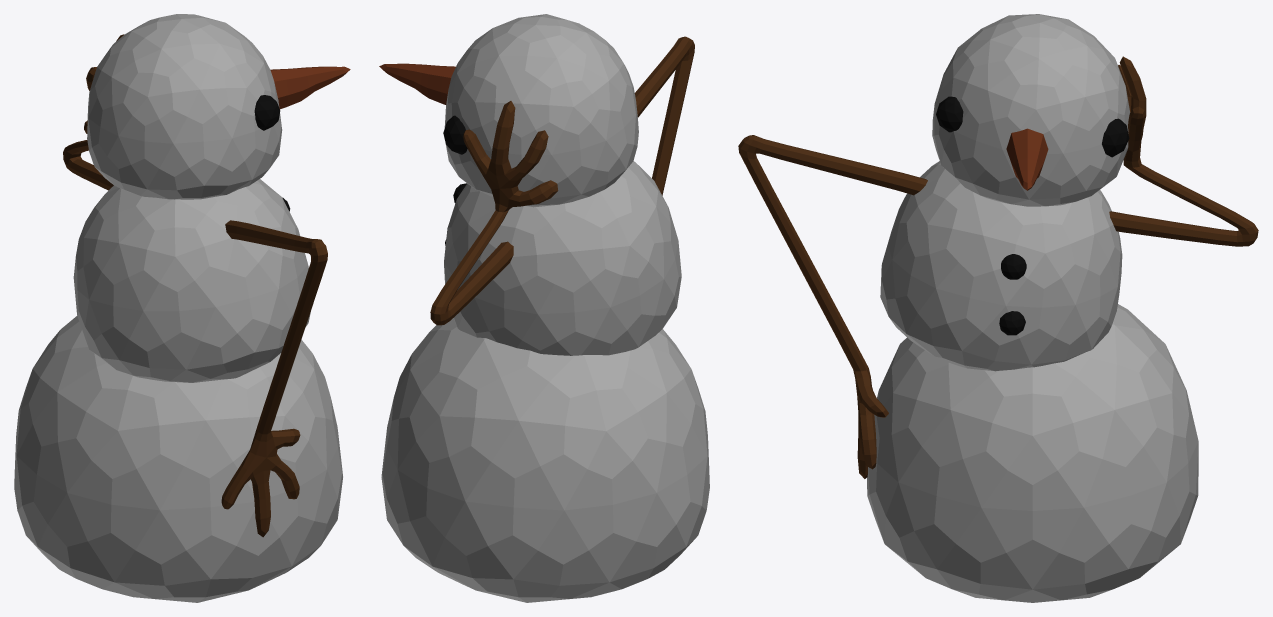
Rendered from Snowman.obj.
3 renders of one model, left to right at view 1: azimuth 30°, elevation 25°; view 2: azimuth 150°, elevation 25°; view 3: azimuth 270°, elevation 25°, orthographic.
Visible parts, largest first — view 1: Snowman_Icosphere.002; view 2: Snowman_Icosphere.002; view 3: Snowman_Icosphere.002.
Boxes of the visible parts, bbox=[...] form: Snowman_Icosphere.002: bbox=[14, 14, 350, 602]; Snowman_Icosphere.002: bbox=[379, 14, 709, 602]; Snowman_Icosphere.002: bbox=[738, 14, 1258, 602].
Bounding box in the file's own units: 2.13 × 3.6 × 3.01.
